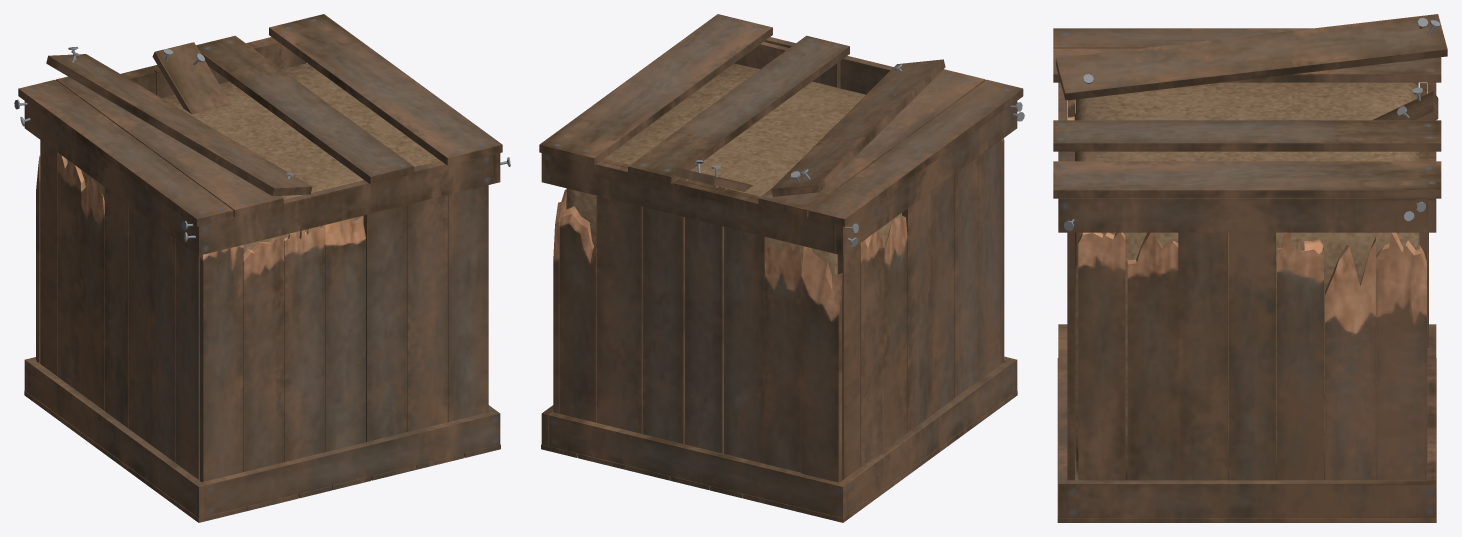
File: DamagedCrate05.glb
3 views of the same model, side by side, from view 1: azimuth 30°, elevation 25°; view 2: azimuth 150°, elevation 25°; view 3: azimuth 270°, elevation 25° (orthographic). The views are drawn at different scales.
Parts seen in each view (by area): view 1: Cube_009; view 2: Cube_009; view 3: Cube_009.
Part boxes in pixels (x1,y1,x2,y2): Cube_009: (14,14,510,522); Cube_009: (539,14,1024,522); Cube_009: (1053,14,1447,522).
Bounding box in the file's own units: 0.8694 × 0.8551 × 0.8321.
Materials: 1 (1 with a texture image).
